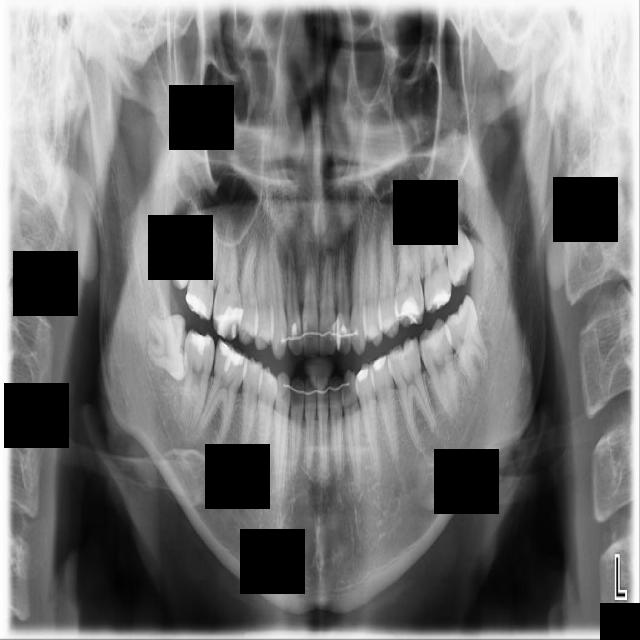3M ESPE Implant: (154, 194, 212, 293)
52: (202, 338, 257, 391), (181, 270, 217, 323), (180, 328, 217, 378), (211, 290, 244, 341), (394, 283, 426, 327), (366, 353, 397, 395), (423, 269, 452, 313), (354, 362, 375, 402), (335, 313, 351, 354), (287, 316, 302, 355)
73: (578, 516, 580, 530)
BioHorizons Implant: (417, 215, 455, 314)
BioLife Implant: (438, 190, 479, 289)
Biomet 3i Implant: (435, 294, 497, 392)
Blue Sky Bio Implant: (414, 317, 460, 424)
Caries: (183, 214, 221, 322)
Implant: (179, 330, 216, 429)
Keystone Dental Implant: (144, 312, 191, 381)
